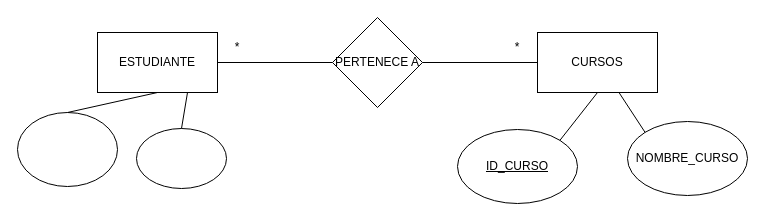
The diagram is 765 pixels wide and 221 high, and some of its shapes have lost their labels. Here are the shapes that lost their labels. From the top down, the centre of each, then its label:
pixel 67 149: LEGAJO
pixel 181 158: NOMBRE
